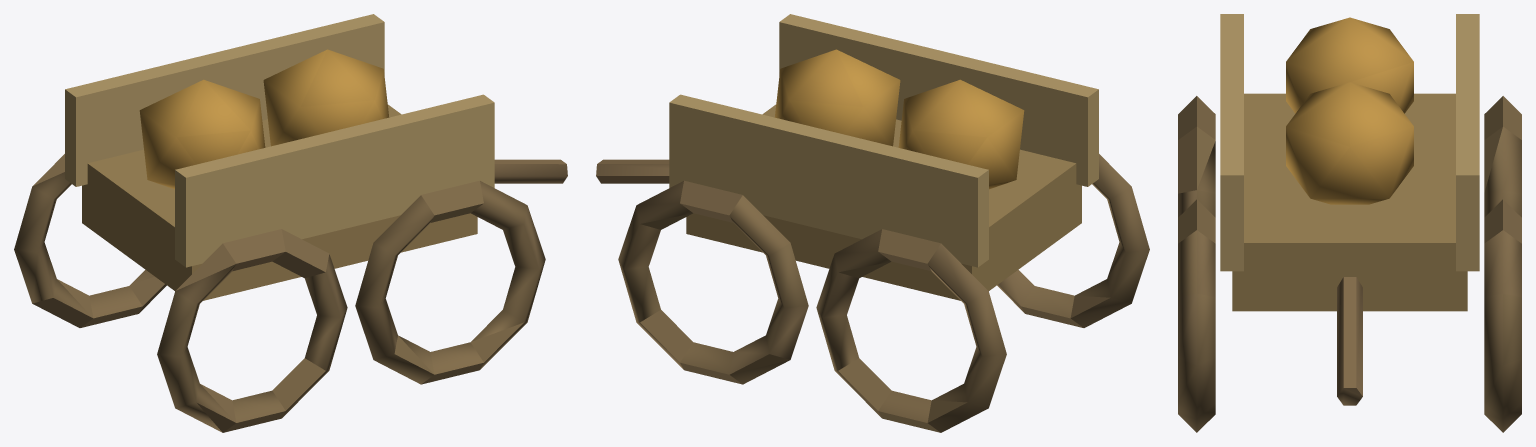
File: map-exclusive-v3__farm_04.glb
3 views of the same model, side by side, from view 1: azimuth 30°, elevation 25°; view 2: azimuth 150°, elevation 25°; view 3: azimuth 270°, elevation 25° (orthographic). The views are drawn at different scales.
Visible parts, largest first — view 1: farm_04; view 2: farm_04; view 3: farm_04.
Boxes of the visible parts, x1,y1,x2,y2 form: farm_04: [14, 14, 567, 432]; farm_04: [596, 14, 1149, 432]; farm_04: [1178, 14, 1521, 432].
Bounding box in the file's own units: 2.51 × 1.45 × 1.46.
